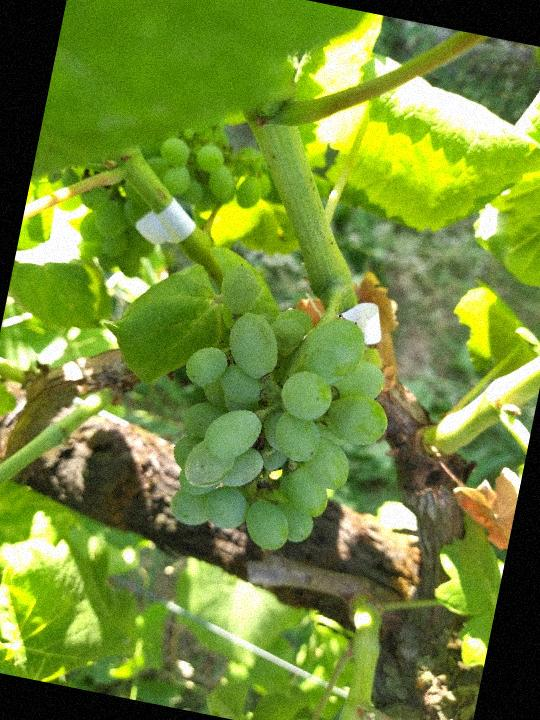grape: (145, 252, 420, 573)
